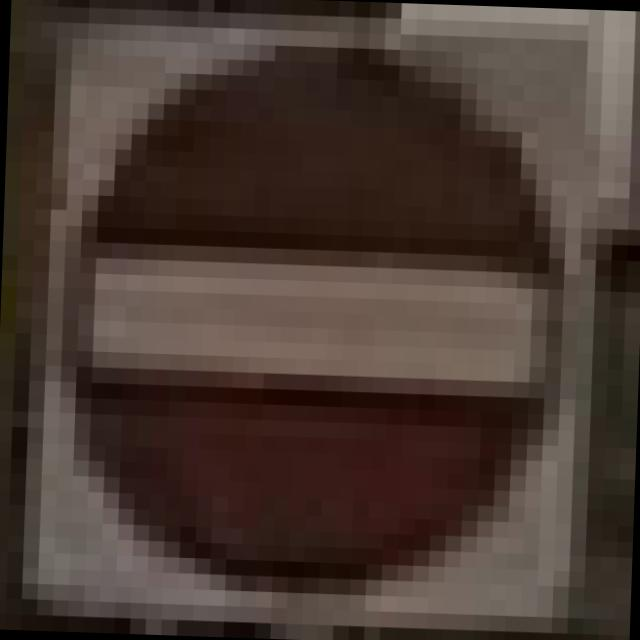noentry_sign: (6, 5, 604, 634)
